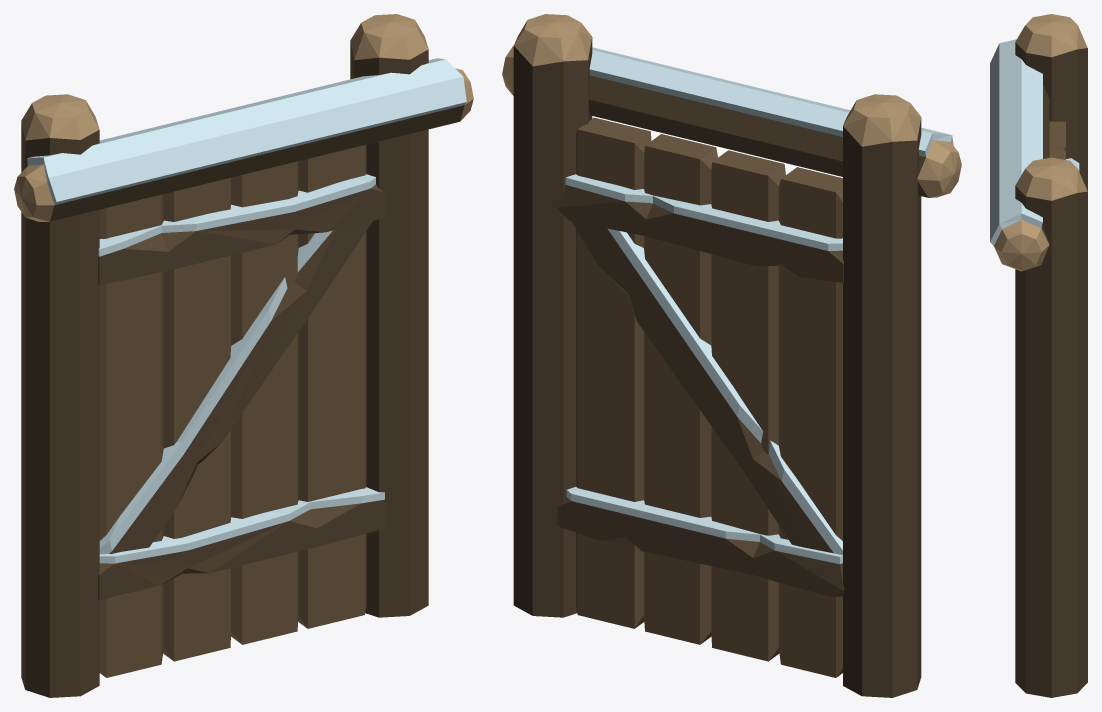
The model's file is Puerta01.glb.
The picture shows the model from 3 angles, left to right: view 1: azimuth 30°, elevation 25°; view 2: azimuth 150°, elevation 25°; view 3: azimuth 270°, elevation 25°; orthographic projection. The views are drawn at different scales.
Parts seen in each view (by area): view 1: SM_Bld_Door_01_Snow; view 2: SM_Bld_Door_01_Snow; view 3: SM_Bld_Door_01_Snow.
Boxes of the visible parts, x1=… form: SM_Bld_Door_01_Snow: x1=14, y1=14, x2=473, y2=697; SM_Bld_Door_01_Snow: x1=502, y1=14, x2=961, y2=697; SM_Bld_Door_01_Snow: x1=990, y1=14, x2=1087, y2=697.
Bounding box in the file's own units: 1.91 × 2.38 × 0.4071.
1 material, 1 textured.
